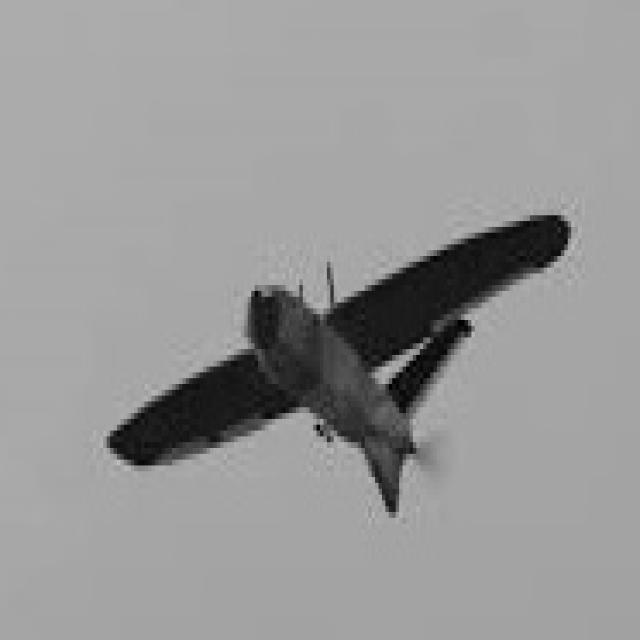iha: (43, 215, 568, 506)
